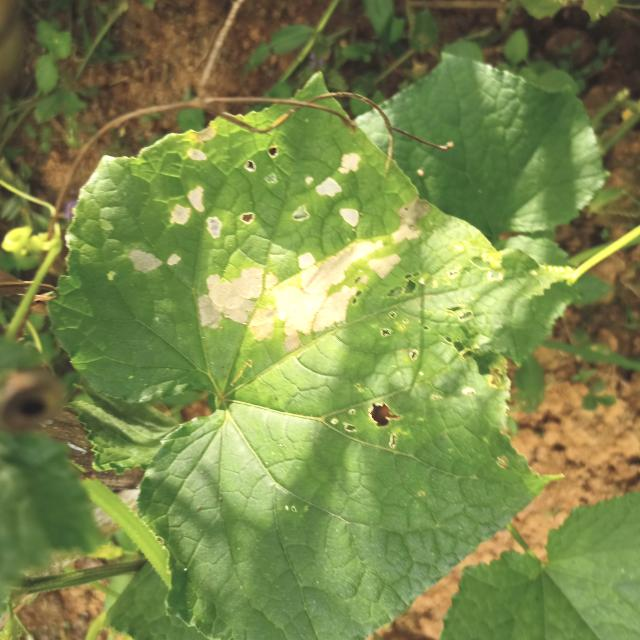disease_cucumber: (126, 142, 433, 357)
